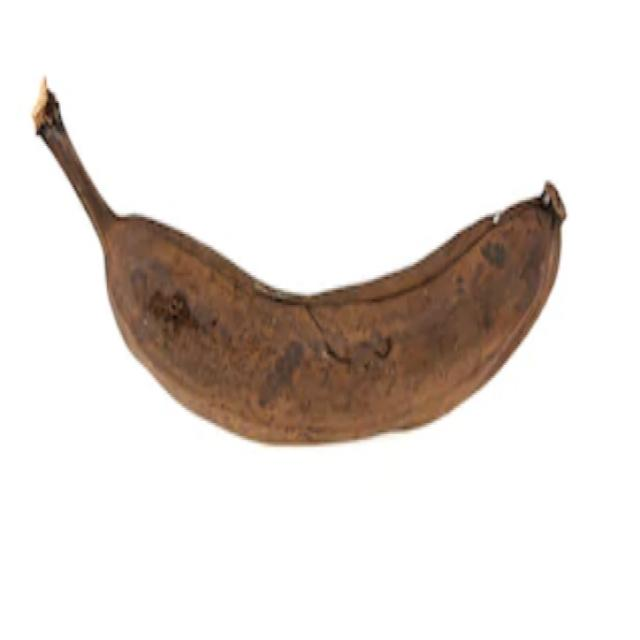rotten-banana: (55, 140, 565, 445)
